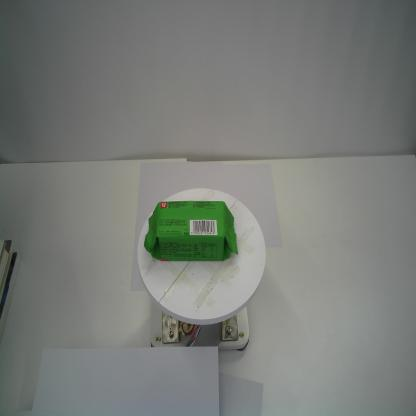Dessert: (142, 199, 240, 263)
